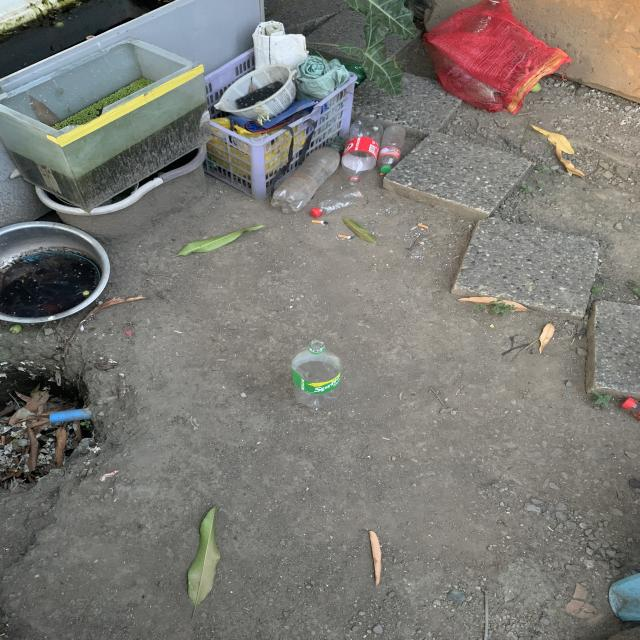Bottle: (291, 340, 342, 409)
